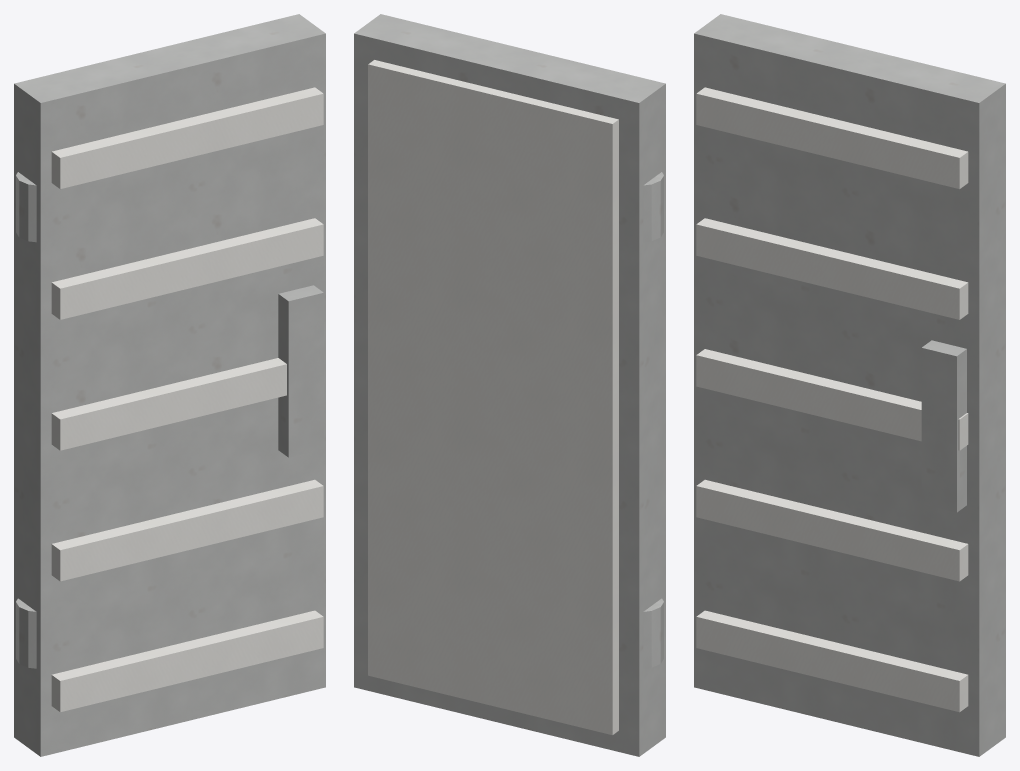
The model's file is blast.gltf.
3 renders of one model, left to right at view 1: azimuth 30°, elevation 25°; view 2: azimuth 150°, elevation 25°; view 3: azimuth 330°, elevation 25°, orthographic.
Parts seen in each view (by area): view 1: jx_blast; view 2: jx_blast; view 3: jx_blast.
Part boxes in pixels (box(x1,y1,x2,y2)): jx_blast: box(14, 14, 325, 756); jx_blast: box(354, 14, 665, 756); jx_blast: box(694, 14, 1005, 756).
Size of the model in its own units: 2.16 by 4.6 by 0.55.
2 materials, 2 textured.
